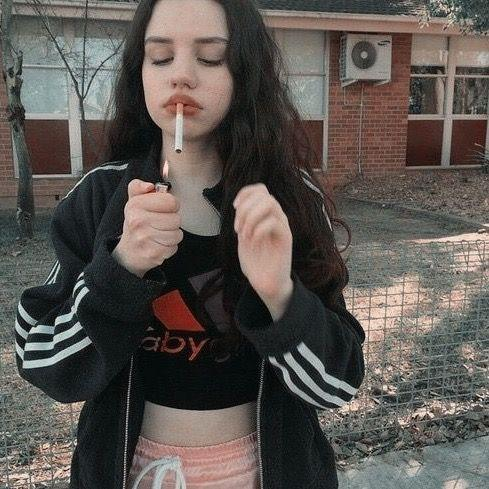cigarette: (175, 102, 183, 154)
